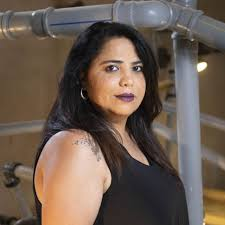middle_eastern_Female: (78, 34, 153, 124)
